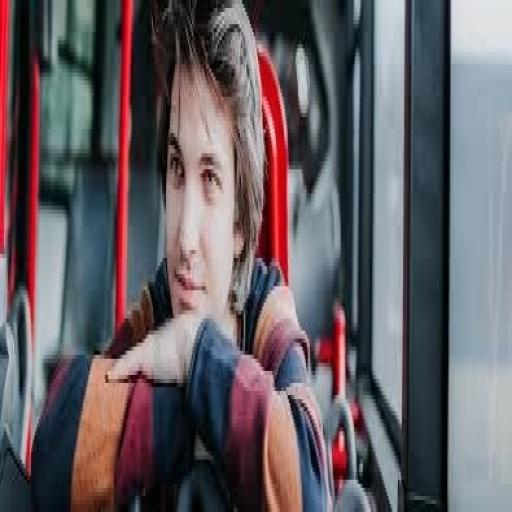sitting: (27, 0, 336, 508)
